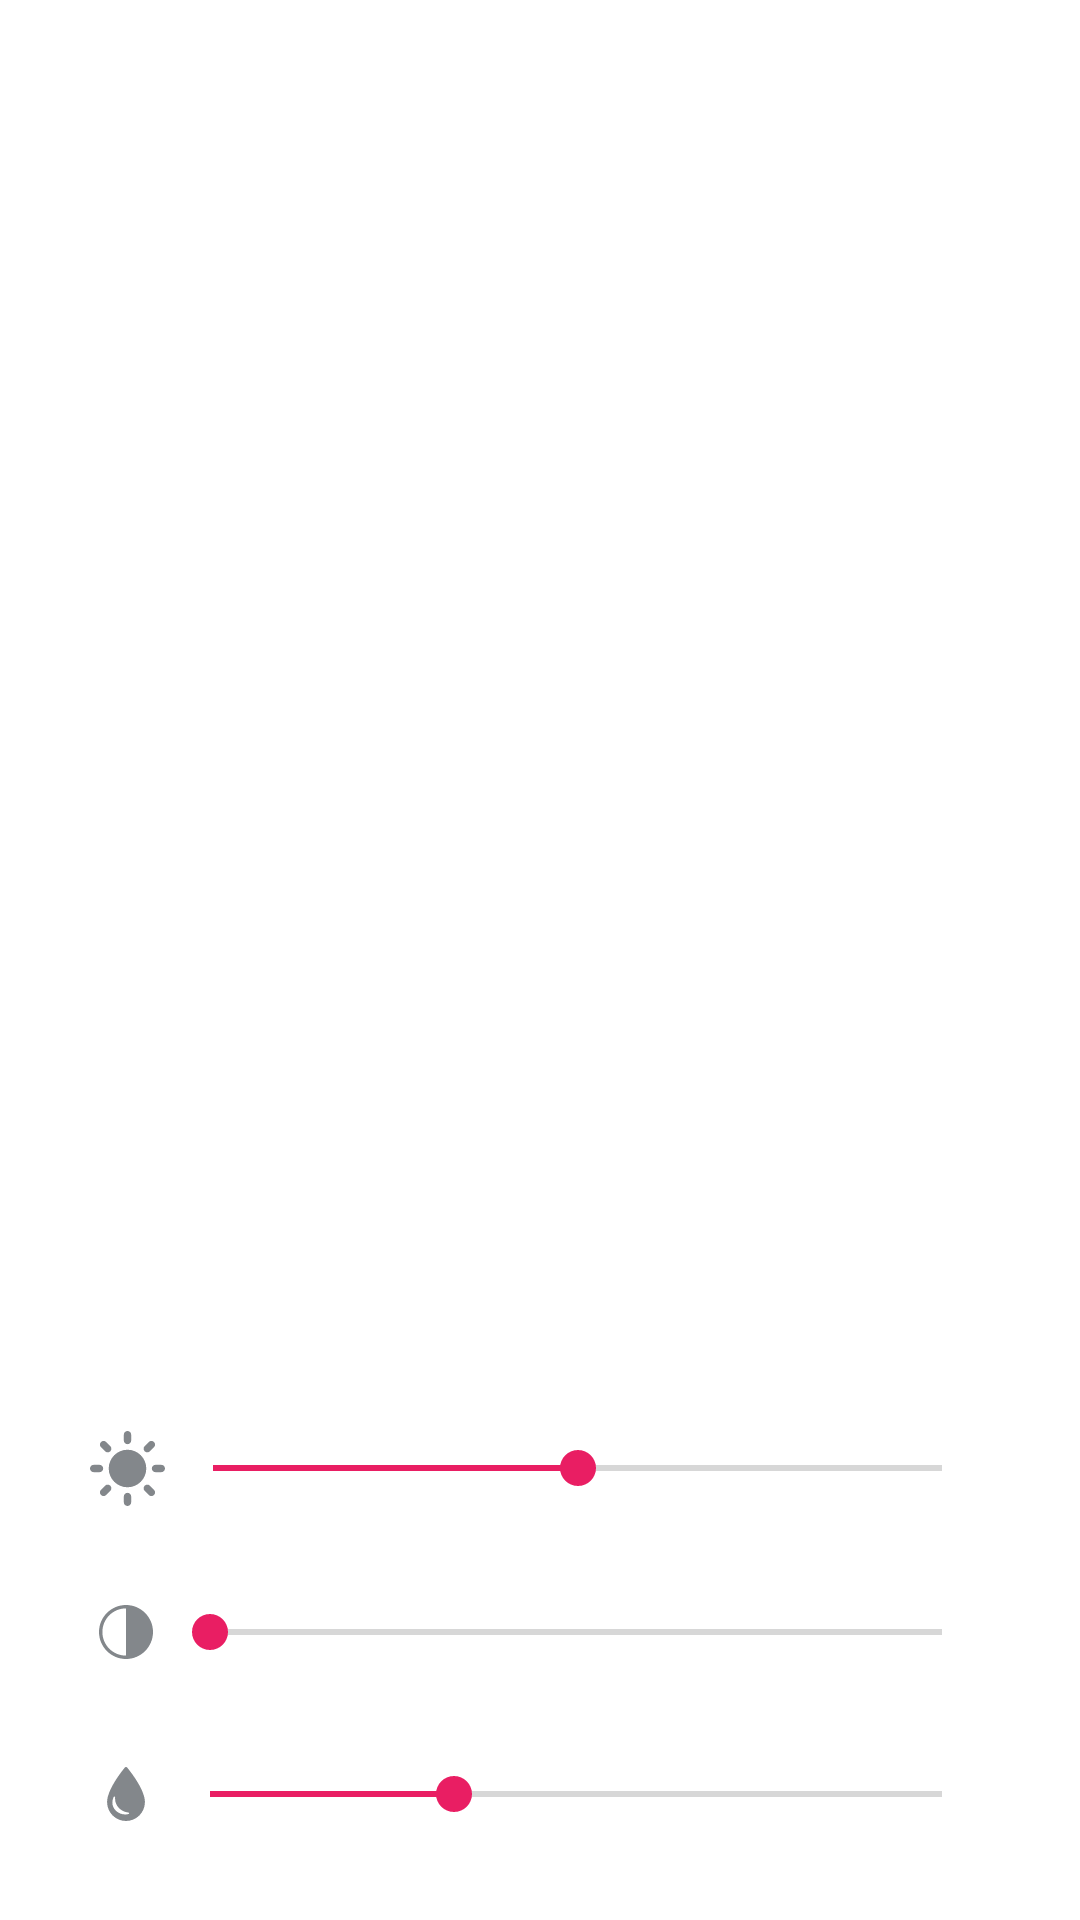

Where icons sit on this 1080px x 1920px app screen, as (x1, y1, x2, y2):
contrast: (99, 1605, 153, 1659)
drop silhouette: (107, 1767, 145, 1821)
sun: (90, 1431, 165, 1506)
